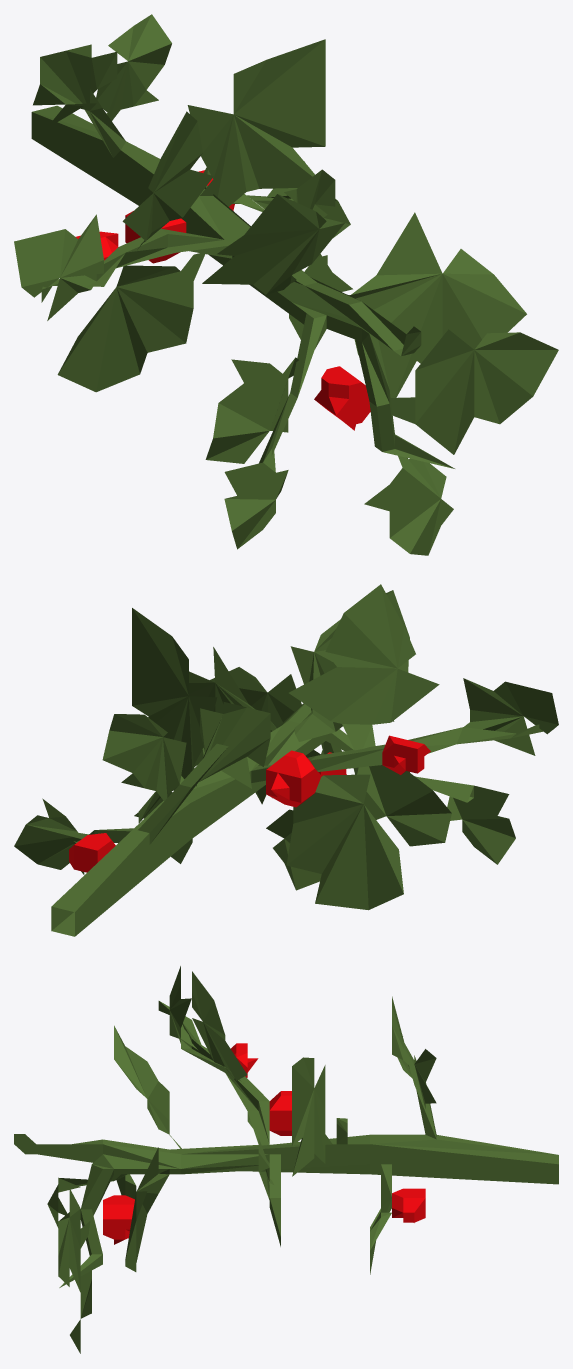
Rendered from tomatoplant.obj.
3 views of the same model, one above another, from view 1: azimuth 30°, elevation 25°; view 2: azimuth 150°, elevation 25°; view 3: azimuth 270°, elevation 25° (orthographic). The views are drawn at different scales.
Parts seen in each view (by area): view 1: tomatoplant; view 2: tomatoplant; view 3: tomatoplant.
Boxes of the visible parts, left/top/right/bottom form: tomatoplant: left=14, top=14, right=558, bottom=555; tomatoplant: left=14, top=584, right=558, bottom=936; tomatoplant: left=14, top=966, right=558, bottom=1353.
Size of the model in its own units: 0.37 by 0.32 by 0.49.
